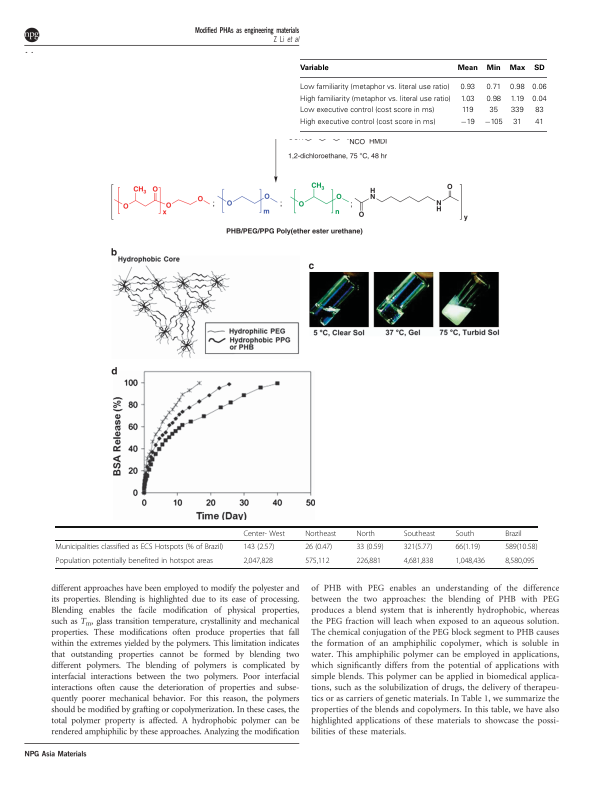borderless: (55, 525, 538, 568), (299, 58, 547, 132)
cell: (55, 542, 224, 552), (55, 556, 214, 566), (298, 95, 451, 104), (298, 83, 450, 92), (298, 118, 436, 127), (298, 106, 435, 115), (242, 529, 286, 538), (504, 542, 538, 552), (242, 542, 275, 552), (242, 556, 274, 566), (454, 556, 486, 566), (504, 556, 536, 566), (403, 556, 434, 566), (403, 542, 433, 552), (304, 529, 337, 538), (403, 529, 436, 538), (304, 542, 333, 552), (355, 542, 384, 552), (454, 542, 481, 552), (355, 556, 382, 566), (304, 556, 330, 566), (298, 64, 329, 72), (355, 529, 376, 538), (454, 529, 475, 538), (483, 118, 503, 127), (456, 64, 478, 72), (504, 529, 523, 538), (508, 83, 525, 92), (459, 83, 475, 92), (485, 83, 501, 92), (531, 83, 547, 92), (459, 95, 475, 104), (485, 95, 501, 104), (531, 95, 547, 104), (459, 118, 475, 127), (508, 64, 525, 72), (509, 95, 524, 104), (509, 106, 524, 115), (485, 64, 501, 72), (460, 106, 474, 115), (533, 64, 545, 72), (488, 106, 498, 115), (534, 106, 544, 115), (512, 118, 522, 127), (534, 118, 544, 127)
